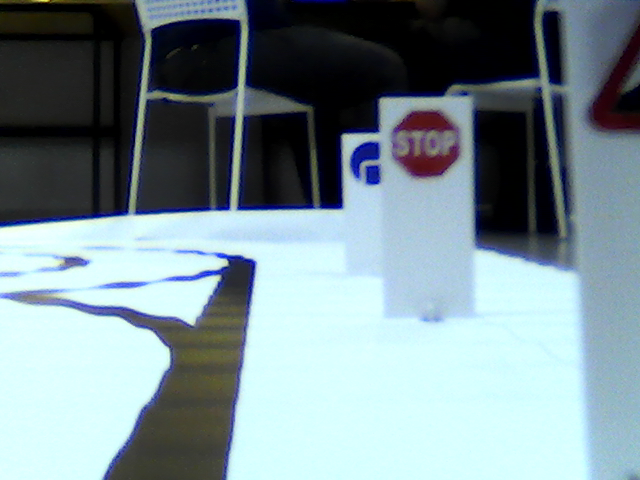Right: (347, 138, 383, 184)
Stop: (390, 107, 459, 178)
